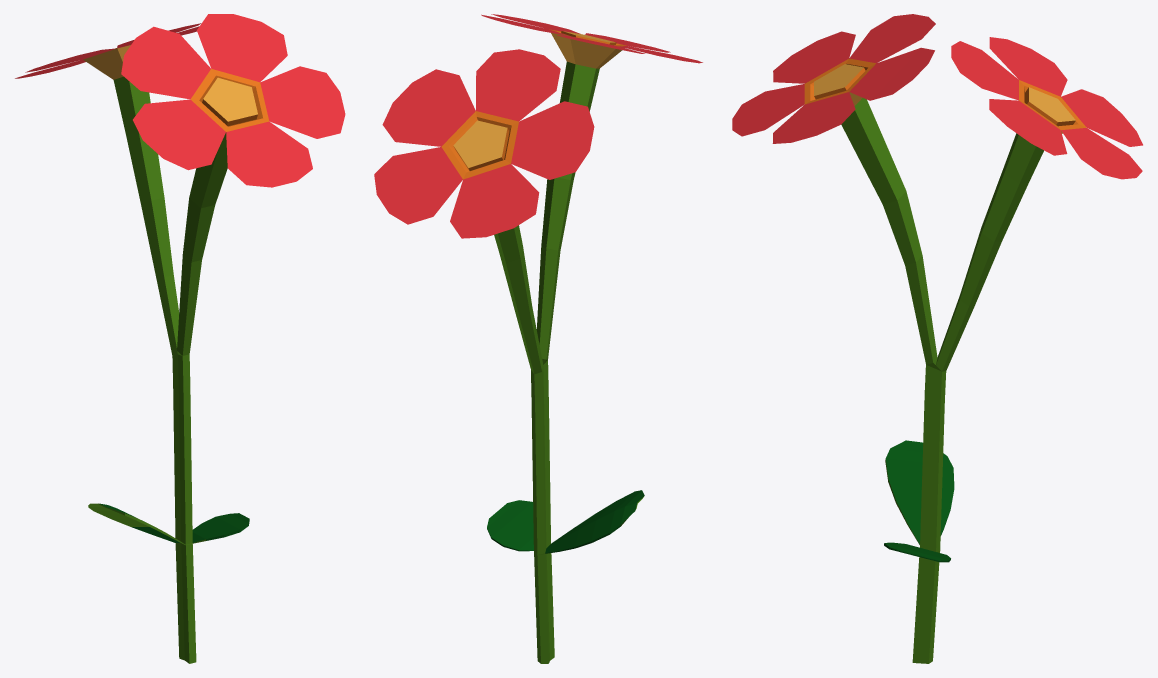
Rendered from Cicek_1.fbx.
3 views of the same model, side by side, from view 1: azimuth 30°, elevation 25°; view 2: azimuth 150°, elevation 25°; view 3: azimuth 270°, elevation 25° (orthographic).
Parts seen in each view (by area): view 1: Flower; view 2: Flower; view 3: Flower.
Boxes of the visible parts, left/top/right/bottom form: Flower: left=15, top=14, right=345, bottom=663; Flower: left=374, top=14, right=702, bottom=663; Flower: left=732, top=14, right=1142, bottom=663.
Size of the model in its own units: 28.43 by 87.28 by 52.1.
